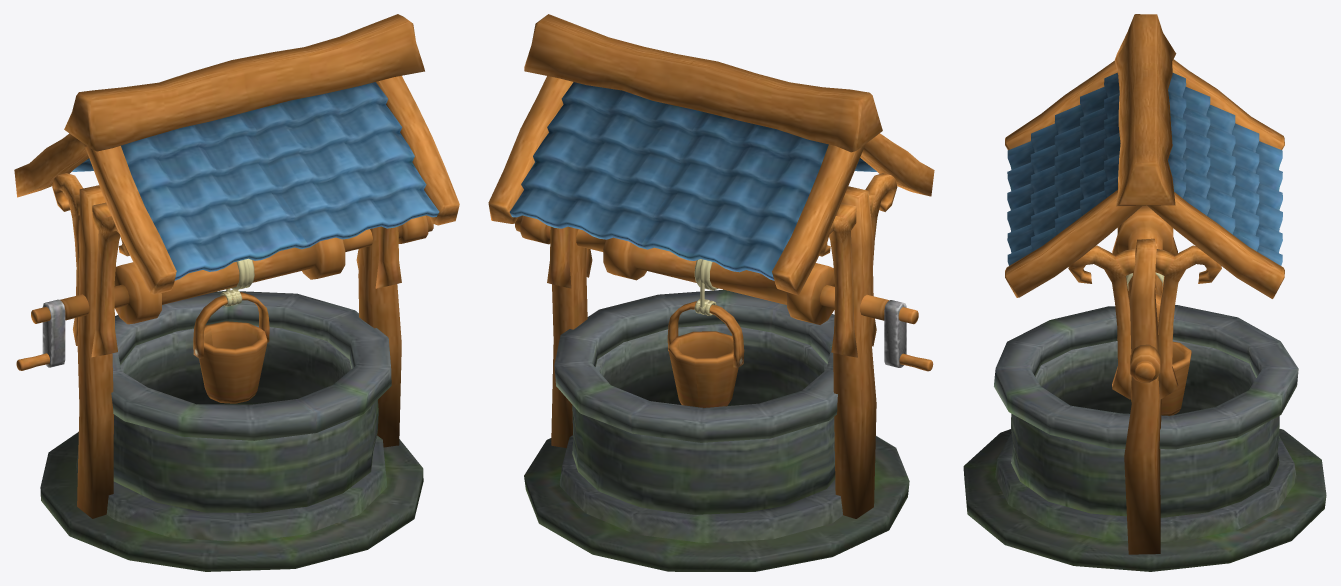
Rendered from SM_Stylized_Well.glb.
3 renders of one model, left to right at view 1: azimuth 30°, elevation 25°; view 2: azimuth 150°, elevation 25°; view 3: azimuth 270°, elevation 25°, orthographic. The views are drawn at different scales.
Visible parts, largest first — view 1: SM_Stylized_Well; view 2: SM_Stylized_Well; view 3: SM_Stylized_Well.
Boxes of the visible parts, bbox=[...] form: SM_Stylized_Well: bbox=[14, 14, 459, 571]; SM_Stylized_Well: bbox=[488, 14, 934, 571]; SM_Stylized_Well: bbox=[963, 14, 1326, 571].
Size of the model in its own units: 2.66 by 2.68 by 2.14.
1 material, 1 textured.
